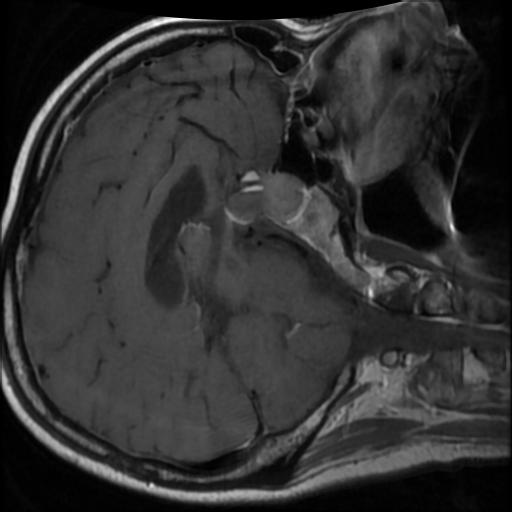pituitary tumour: (227, 173, 305, 222)
